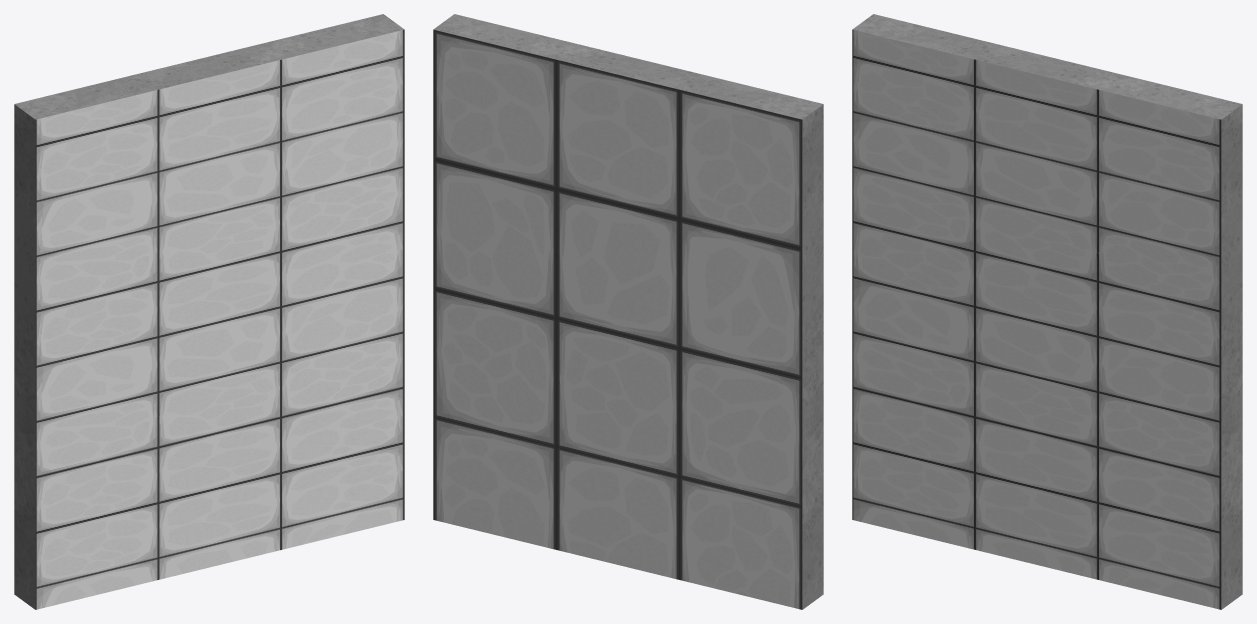
File: SM_Dividing_Wall_4m.fbx
The picture shows the model from 3 angles, left to right: view 1: azimuth 30°, elevation 25°; view 2: azimuth 150°, elevation 25°; view 3: azimuth 330°, elevation 25°; orthographic projection.
Parts seen in each view (by area): view 1: SM_Dividing_Wall_4m; view 2: SM_Dividing_Wall_4m; view 3: SM_Dividing_Wall_4m.
Part boxes in pixels (x1,y1,x2,y2): SM_Dividing_Wall_4m: (14,14,404,609); SM_Dividing_Wall_4m: (433,14,823,609); SM_Dividing_Wall_4m: (852,14,1242,609).
Size of the model in its own units: 400 by 507 by 40.
